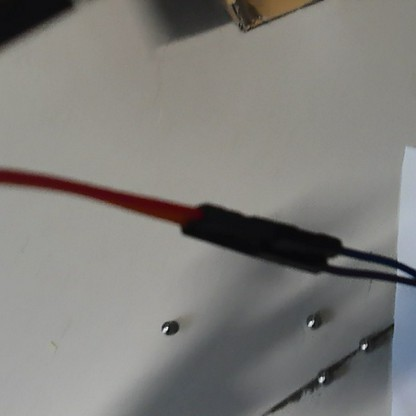ironball: (356, 334, 377, 355), (313, 367, 332, 388), (159, 318, 177, 340), (302, 309, 321, 329)
